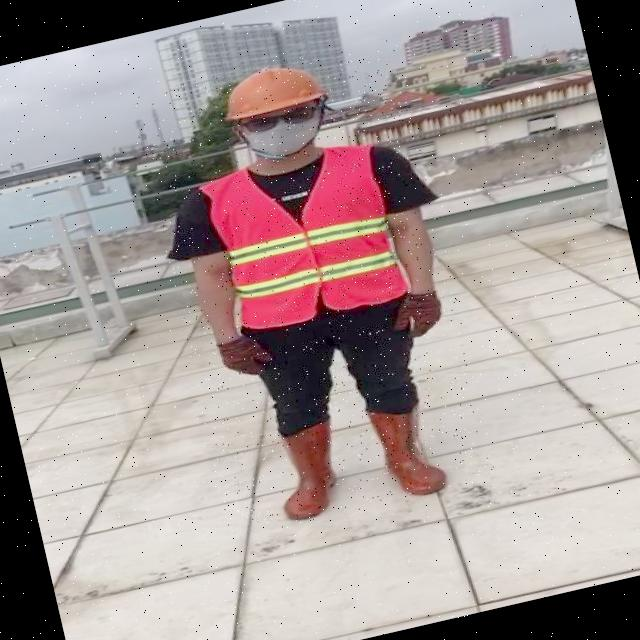boots: (366, 394, 452, 502), (266, 418, 354, 520)
helmet: (210, 51, 332, 127)
vest: (198, 136, 408, 338)
